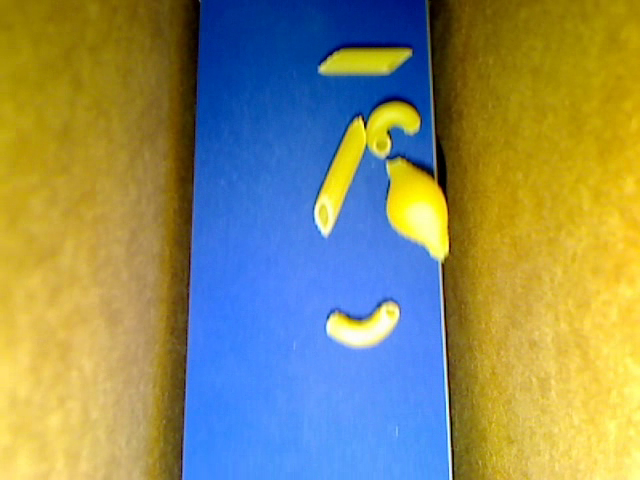elbow: (325, 302, 399, 348), (366, 102, 421, 157)
penne: (314, 115, 367, 239), (317, 48, 412, 74)
shell: (385, 157, 449, 261)
